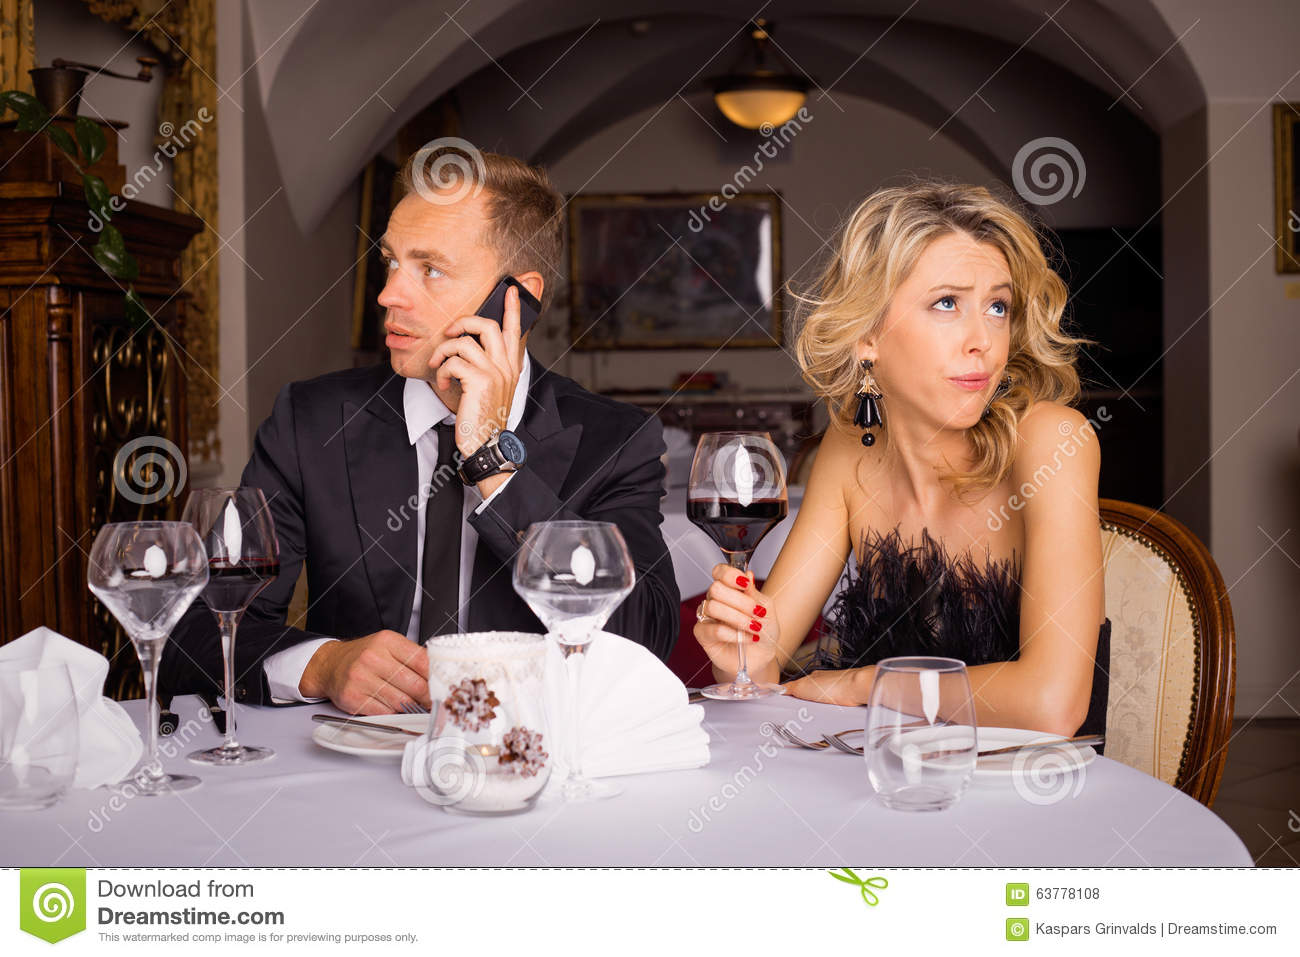phone: (466, 277, 536, 359)
talk: (371, 230, 540, 455)
